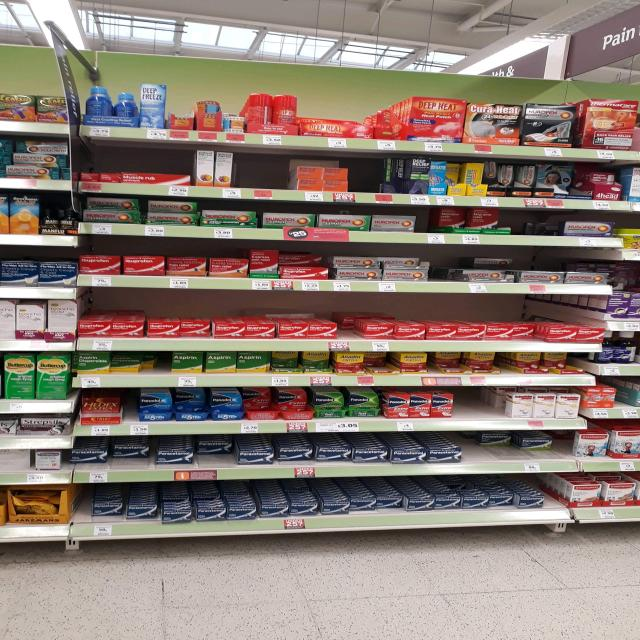empty_space: (354, 158, 385, 191), (250, 158, 282, 187), (474, 446, 522, 462), (460, 394, 490, 415), (337, 321, 357, 335)
